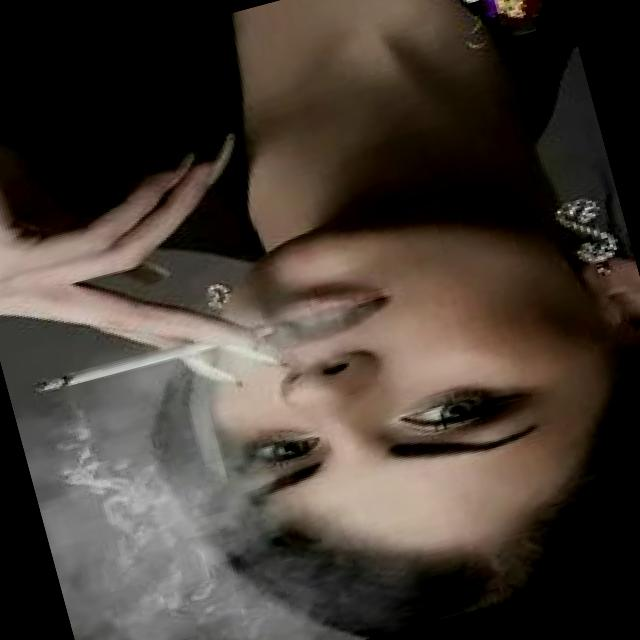cigarette: (23, 316, 274, 406)
